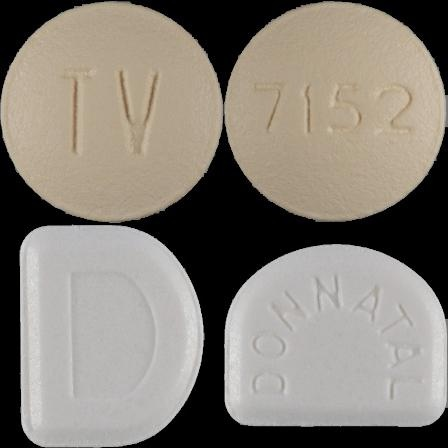0179-0128: (0, 0, 224, 224)
